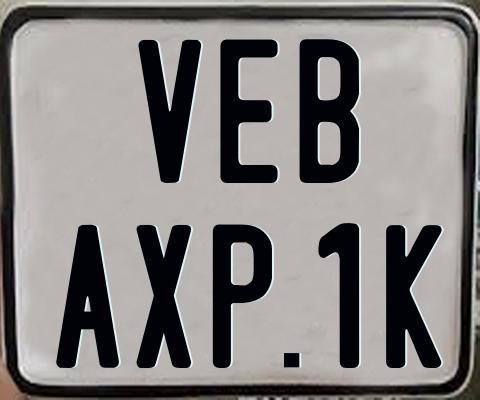1: (315, 222, 359, 373)
A: (54, 223, 122, 367)
B: (299, 37, 365, 183)
E: (220, 39, 279, 184)
K: (386, 223, 444, 371)
P: (212, 223, 275, 368)
V: (138, 40, 201, 183)
X: (136, 224, 193, 367)
